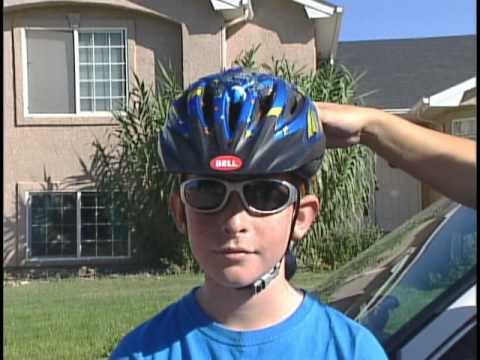helmet: (161, 67, 325, 286)
